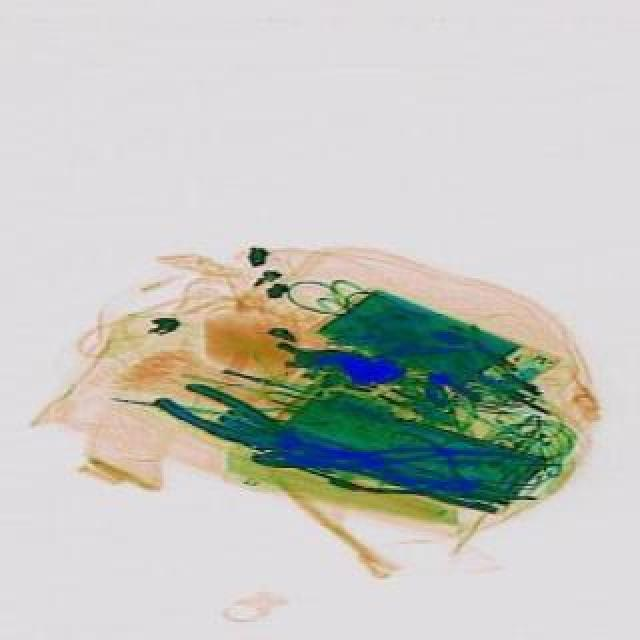wrench: (148, 368, 320, 476), (250, 436, 520, 492)
